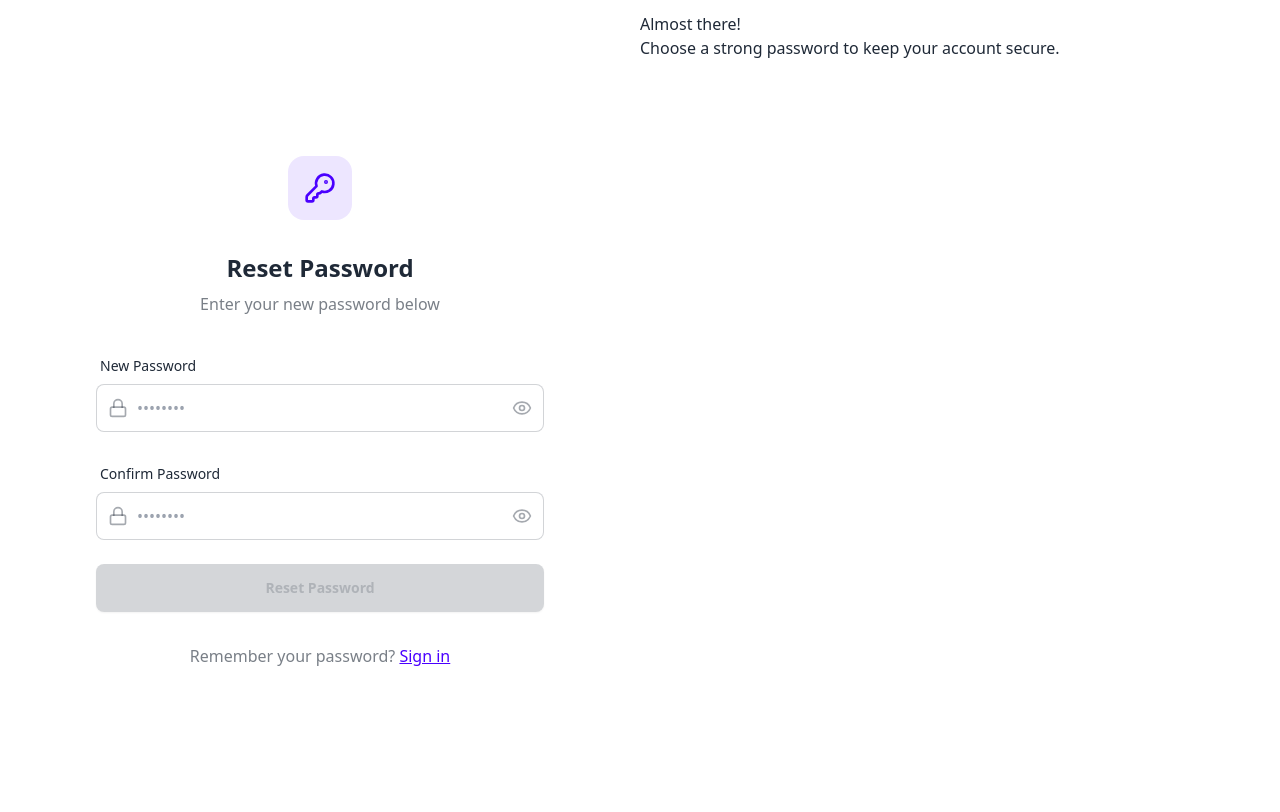
Test: ResetPassword Page › Reset Mode (with token) › should show error when passwords do not match
Type "NewPass123!" into the 1st password field with placeholder "••••••••". click: (320, 408)
box: [96,384,544,432]
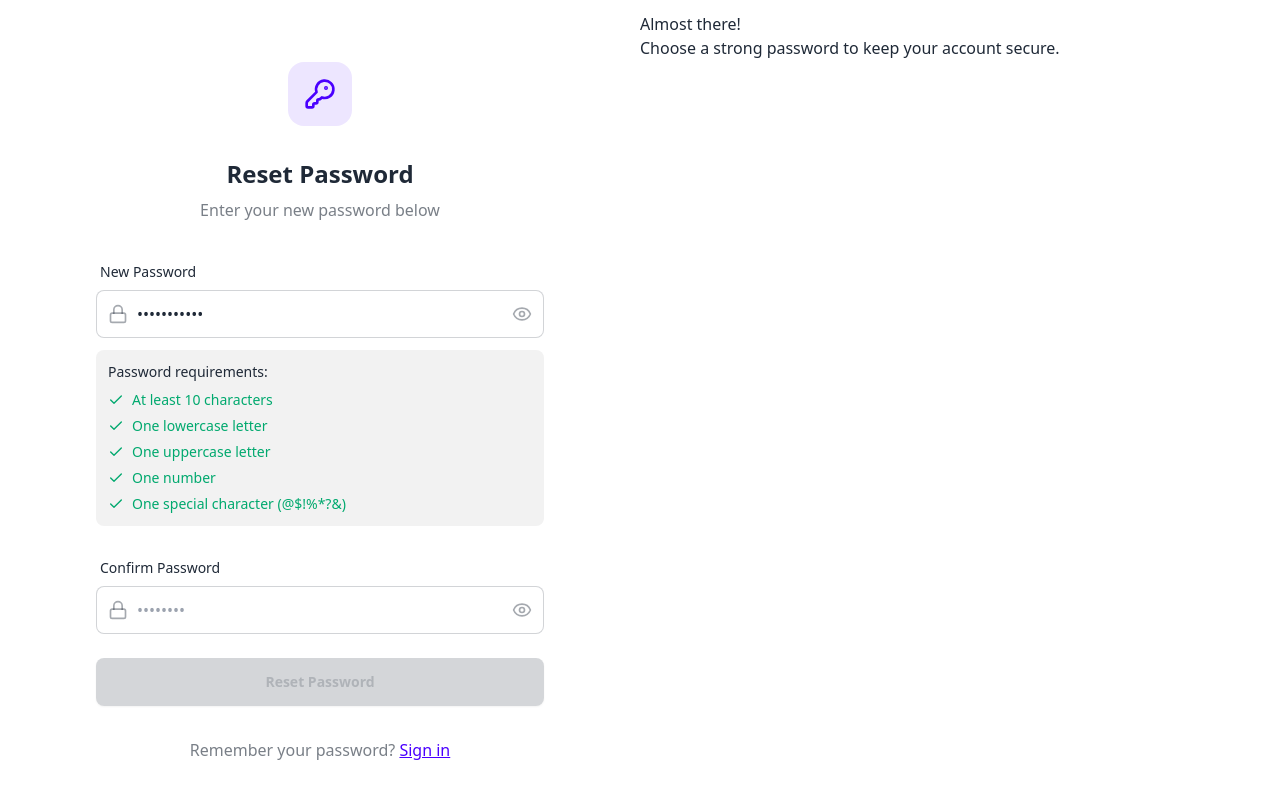
Type "Different456!" into the password field with placeholder "••••••••". click: (320, 610)
box: [96,586,544,634]
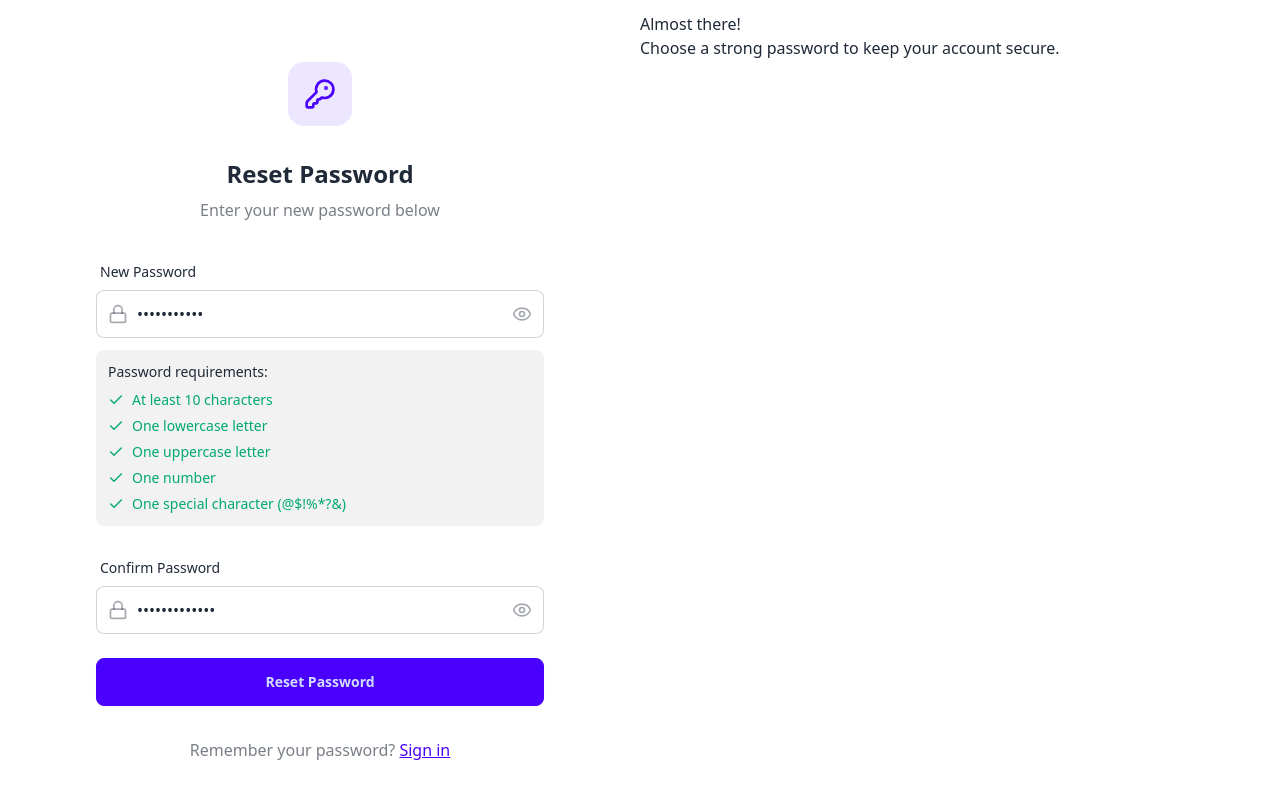
Click the button "Reset Password". click: (320, 682)
box: [96,658,544,706]
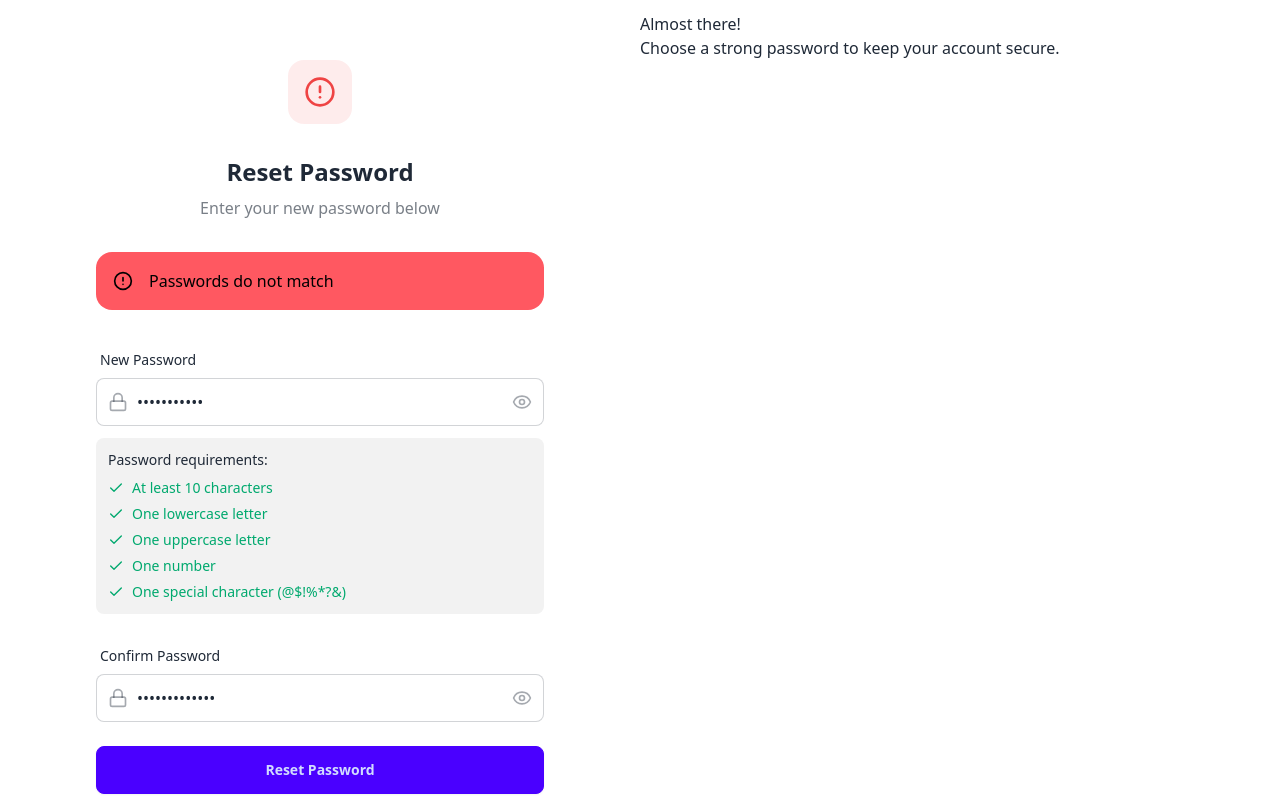
Check: the text "Passwords do not match" is shown, box [149,269,334,293]
